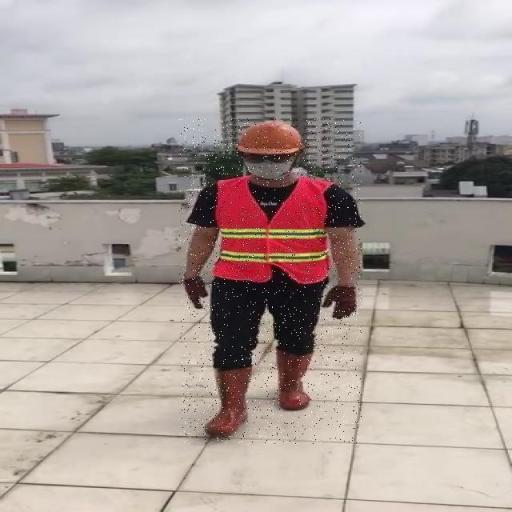Boots: (199, 363, 255, 438), (278, 352, 316, 412)
Helmet: (234, 120, 304, 155)
Person: (179, 118, 362, 444)
